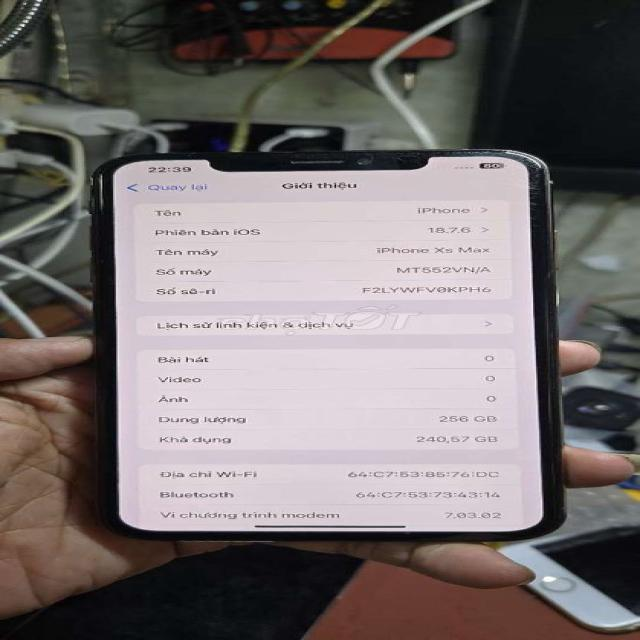gen_x_xs: (93, 149, 562, 540)
